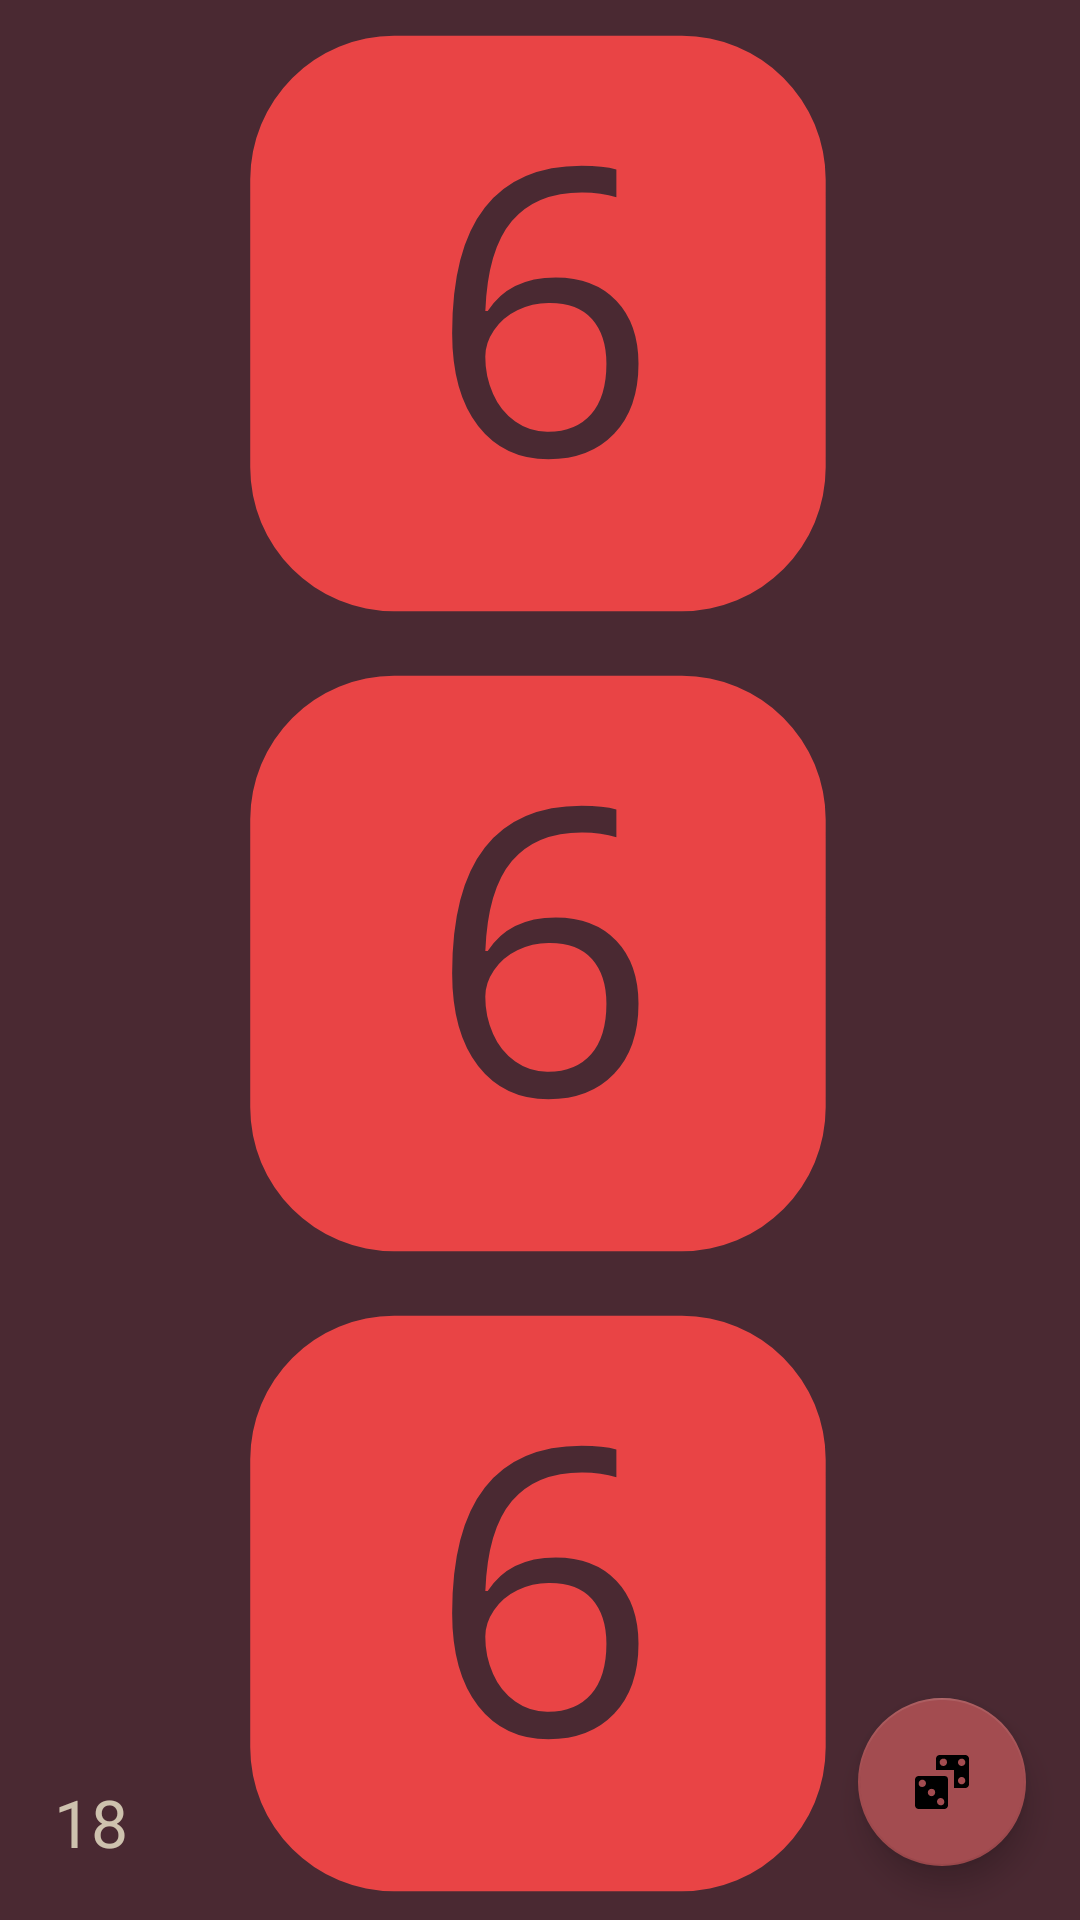

Screen size 1080 × 1920. Icon name, then its center in pixels as point (x, y):
Dice Settings: point (942, 1782)
